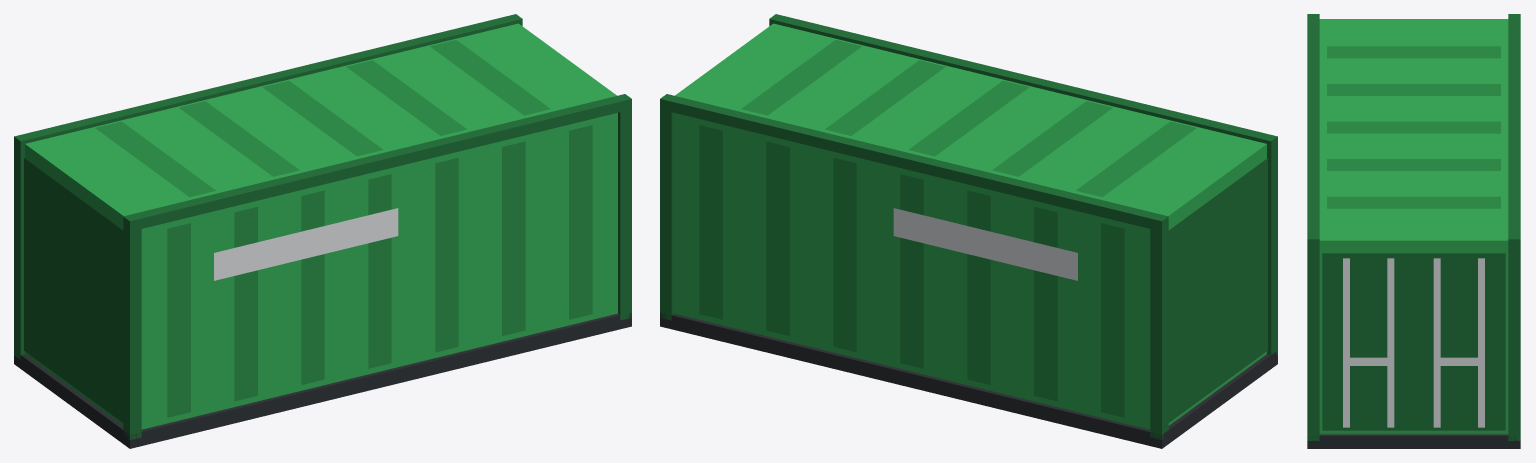
File: container_green.glb
The picture shows the model from 3 angles, left to right: view 1: azimuth 30°, elevation 25°; view 2: azimuth 150°, elevation 25°; view 3: azimuth 270°, elevation 25°; orthographic projection. The views are drawn at different scales.
Parts seen in each view (by area): view 1: container_green; view 2: container_green; view 3: container_green.
Part boxes in pixels (x1,y1,x2,y2): container_green: (14,14,631,448); container_green: (660,14,1277,448); container_green: (1307,14,1520,448).
Size of the model in its own units: 0.604 by 0.26 by 0.242.
